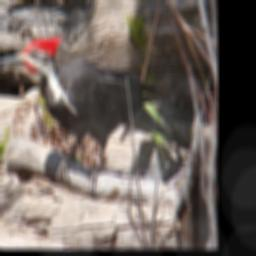Woodpecker: (0, 34, 190, 192)
